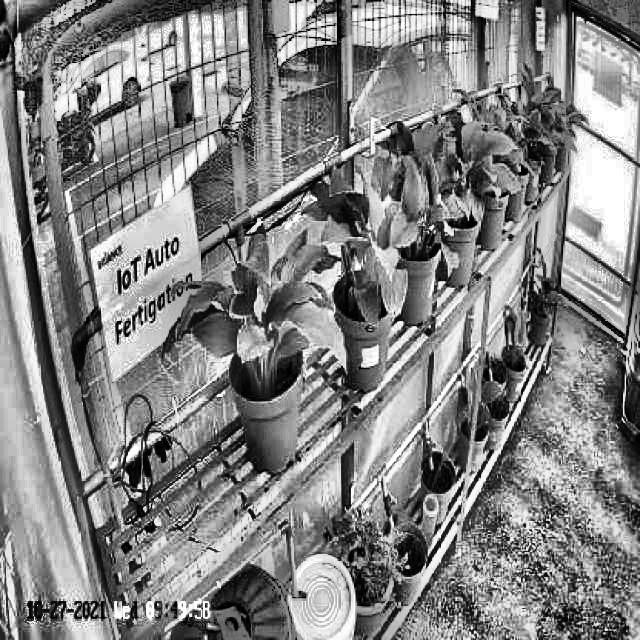plants: (162, 222, 348, 382), (304, 163, 408, 326), (381, 118, 452, 262), (436, 111, 509, 224), (460, 368, 498, 436), (534, 246, 566, 319), (506, 302, 531, 368)
